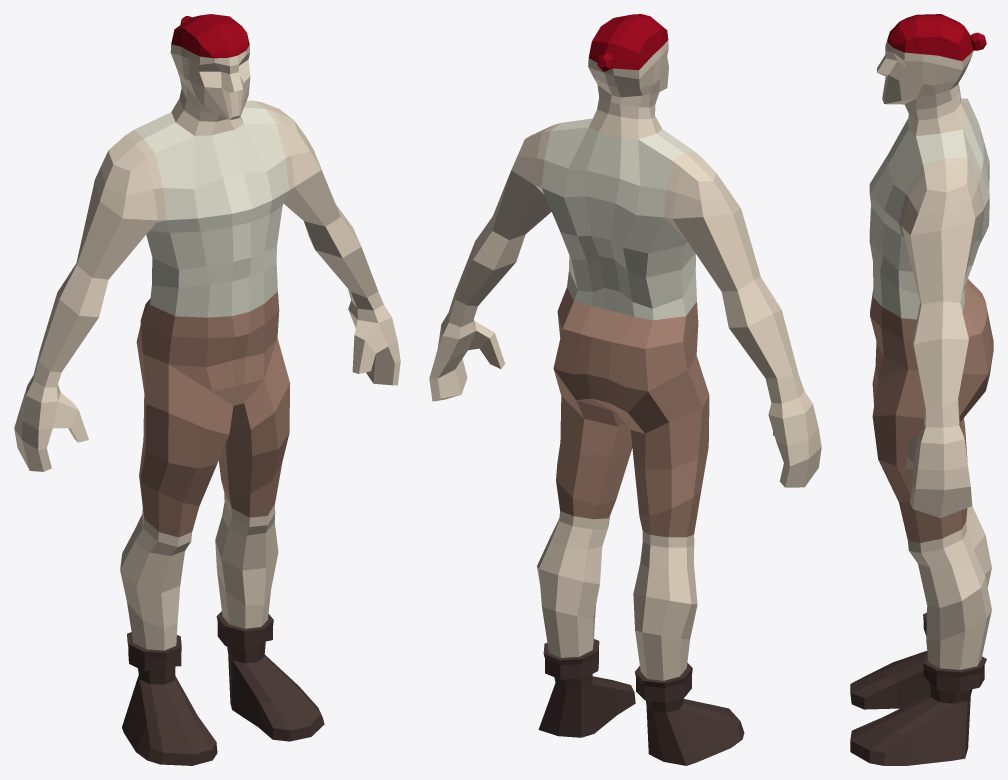
3 views of the same model, side by side, from view 1: azimuth 30°, elevation 25°; view 2: azimuth 150°, elevation 25°; view 3: azimuth 270°, elevation 25° (orthographic).
Visible parts, largest first — view 1: AI_1; view 2: AI_1; view 3: AI_1.
Part boxes in pixels (box(x1,y1,x2,y2)): AI_1: box(14, 14, 400, 765); AI_1: box(429, 14, 821, 765); AI_1: box(850, 14, 993, 765).
Size of the model in its own units: 4.68 by 8.59 by 1.58.
